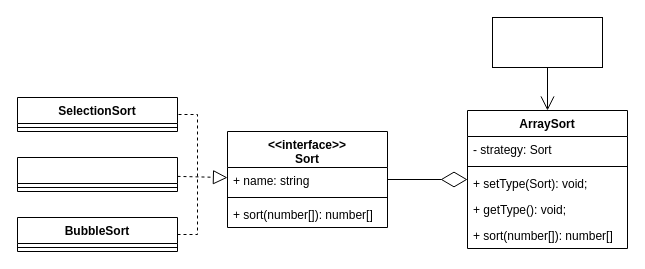
Image size: 645x269. Some labels were removed from this diagram. Here are the shapes that lost their labels. From the top down, the centre of each, then its label:
[547,42]: Client
[97,174]: InsertionSort
